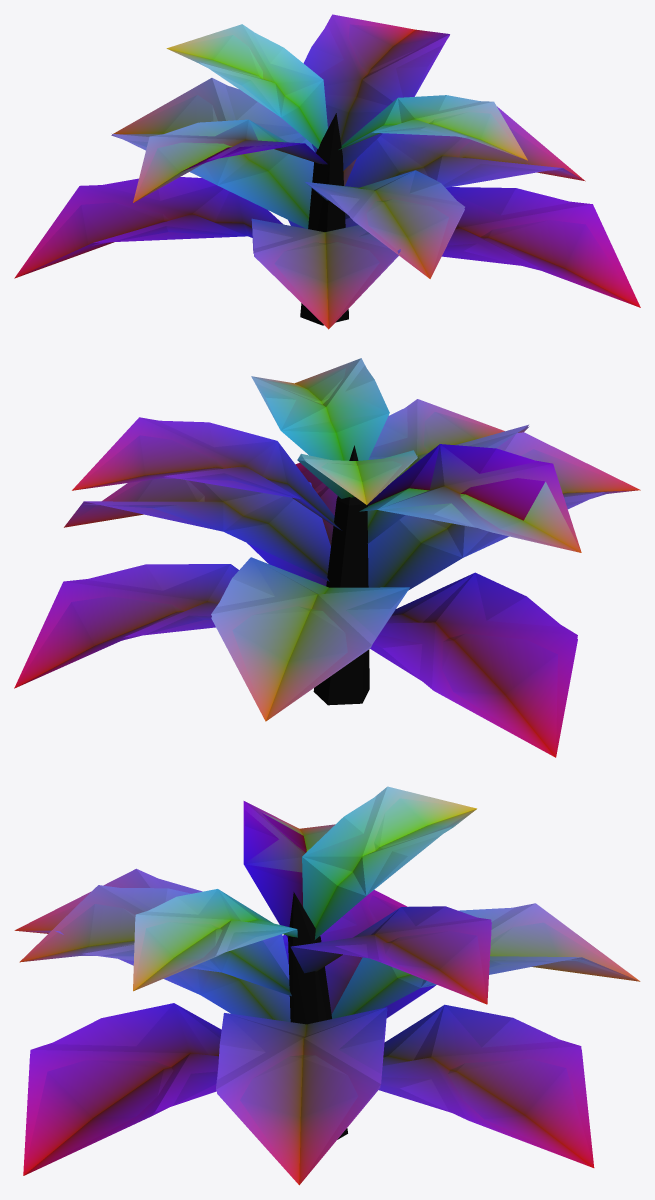
The model's file is bigleafplant_01_small_mid.dae.
3 views of the same model, one above another, from view 1: azimuth 30°, elevation 25°; view 2: azimuth 150°, elevation 25°; view 3: azimuth 270°, elevation 25° (orthographic). The views are drawn at different scales.
Parts seen in each view (by area): view 1: bigleafsa224, bigleafsa64; view 2: bigleafsa224, bigleafsa64; view 3: bigleafsa224, bigleafsa64.
Part boxes in pixels (x1=…): bigleafsa224: x1=14, y1=24, x2=640, y2=329; bigleafsa64: x1=15, y1=14, x2=639, y2=328; bigleafsa224: x1=14, y1=365, x2=640, y2=757; bigleafsa64: x1=14, y1=358, x2=638, y2=756; bigleafsa224: x1=14, y1=796, x2=639, y2=1185; bigleafsa64: x1=15, y1=786, x2=640, y2=1184.
Size of what is drawn, in the model's own units: 1.77 by 1.66 by 0.858.
